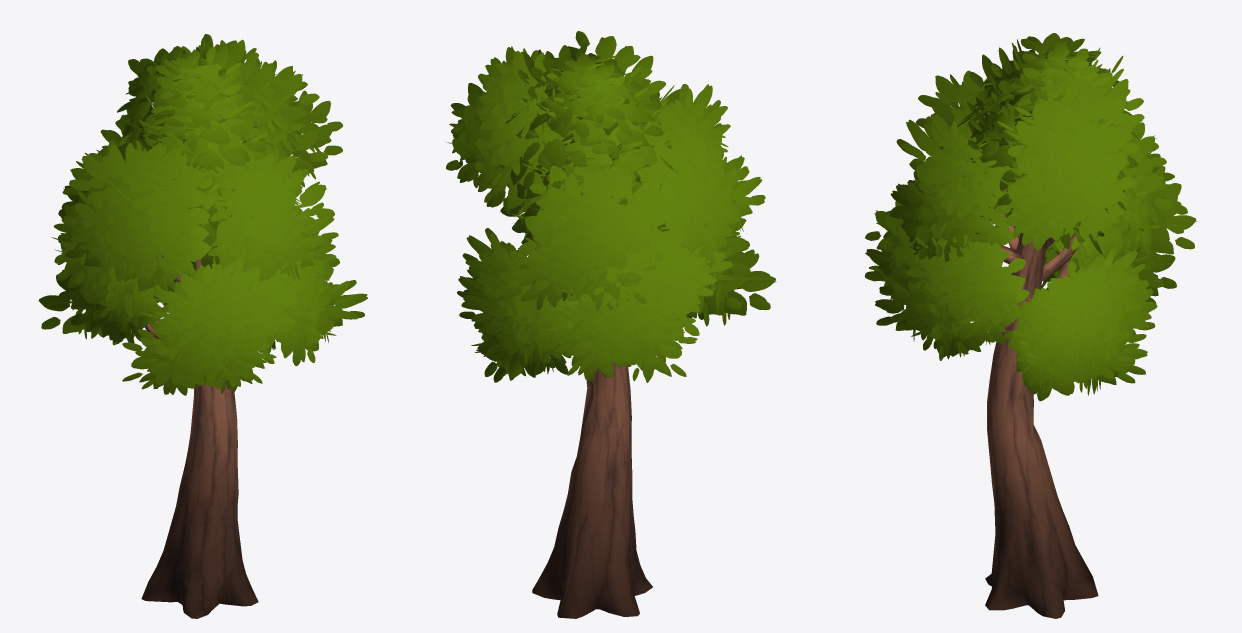
The model's file is common-tree-1.glb.
3 renders of one model, left to right at view 1: azimuth 30°, elevation 25°; view 2: azimuth 150°, elevation 25°; view 3: azimuth 270°, elevation 25°, orthographic. The views are drawn at different scales.
Parts seen in each view (by area): view 1: CommonTree_1; view 2: CommonTree_1; view 3: CommonTree_1.
Boxes of the visible parts, left/top/right/bottom form: CommonTree_1: left=38, top=34, right=367, bottom=618; CommonTree_1: left=445, top=31, right=776, bottom=618; CommonTree_1: left=864, top=33, right=1197, bottom=618.
Size of the model in its own units: 4.31 by 7.26 by 4.58.
2 materials, 2 textured.
